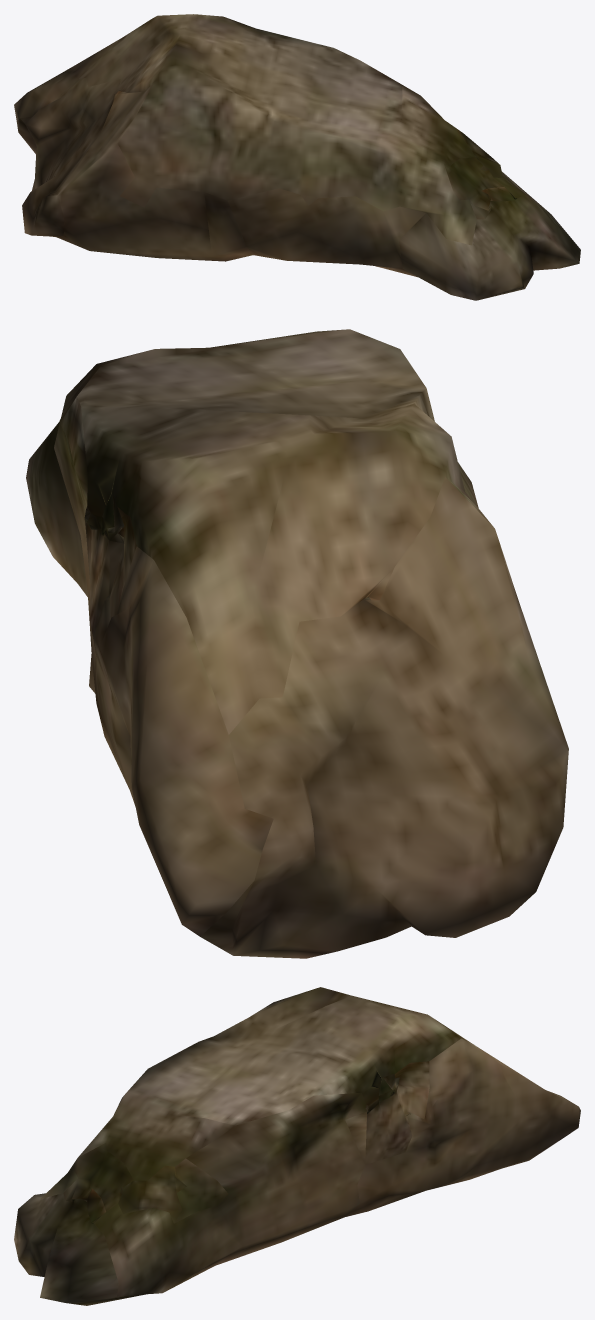
The model's file is rock_moss_set_01_rock02.glb.
3 views of the same model, one above another, from view 1: azimuth 30°, elevation 25°; view 2: azimuth 150°, elevation 25°; view 3: azimuth 270°, elevation 25° (orthographic). The views are drawn at different scales.
Parts seen in each view (by area): view 1: rock_moss_set_01_rock02; view 2: rock_moss_set_01_rock02; view 3: rock_moss_set_01_rock02.
Boxes of the visible parts, <box> form: rock_moss_set_01_rock02: <box>14,14,580,300</box>; rock_moss_set_01_rock02: <box>26,329,568,958</box>; rock_moss_set_01_rock02: <box>14,987,580,1305</box>.
Bounding box in the file's own units: 2.64 × 1.26 × 3.24.
Materials: 1 (1 with a texture image).
